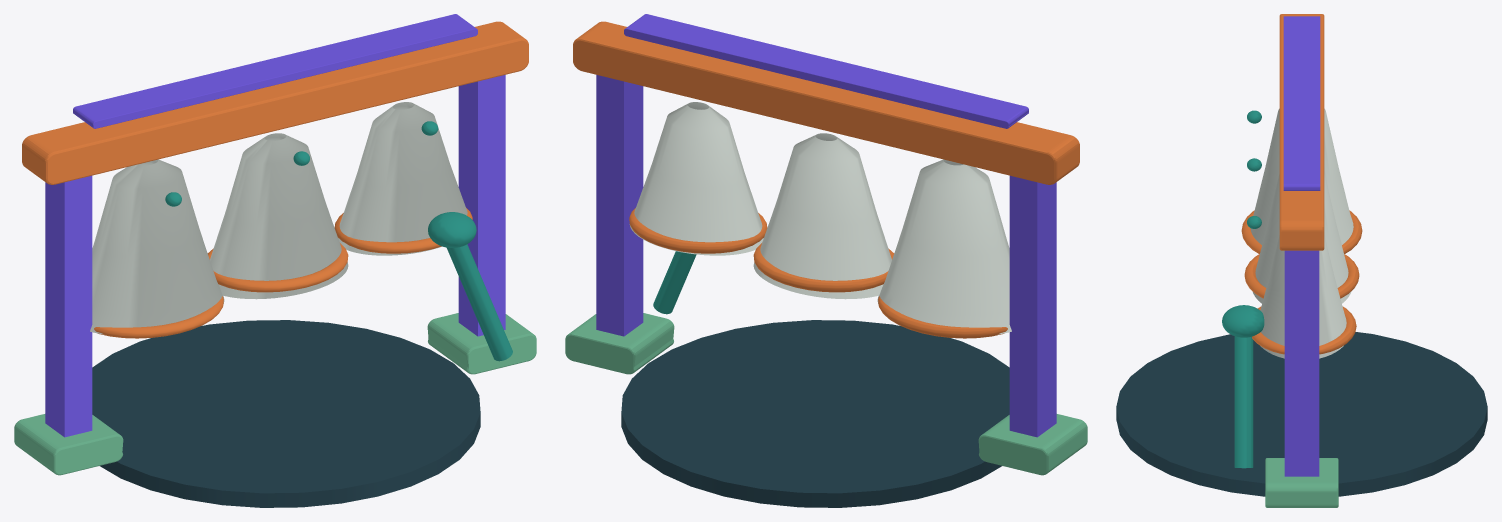
File: 0753_先秦图鉴_编钟.glb
The picture shows the model from 3 angles, left to right: view 1: azimuth 30°, elevation 25°; view 2: azimuth 150°, elevation 25°; view 3: azimuth 270°, elevation 25°; orthographic projection. The views are drawn at different scales.
Visible parts, largest first — view 1: card_0753; view 2: card_0753; view 3: card_0753.
Boxes of the visible parts, x1,y1,x2,y2 form: card_0753: [14, 14, 536, 507]; card_0753: [565, 14, 1087, 507]; card_0753: [1116, 14, 1487, 507].
Size of the model in its own units: 1.43 by 1 by 1.05.
